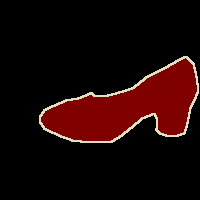shoe: (40, 56, 198, 142)
